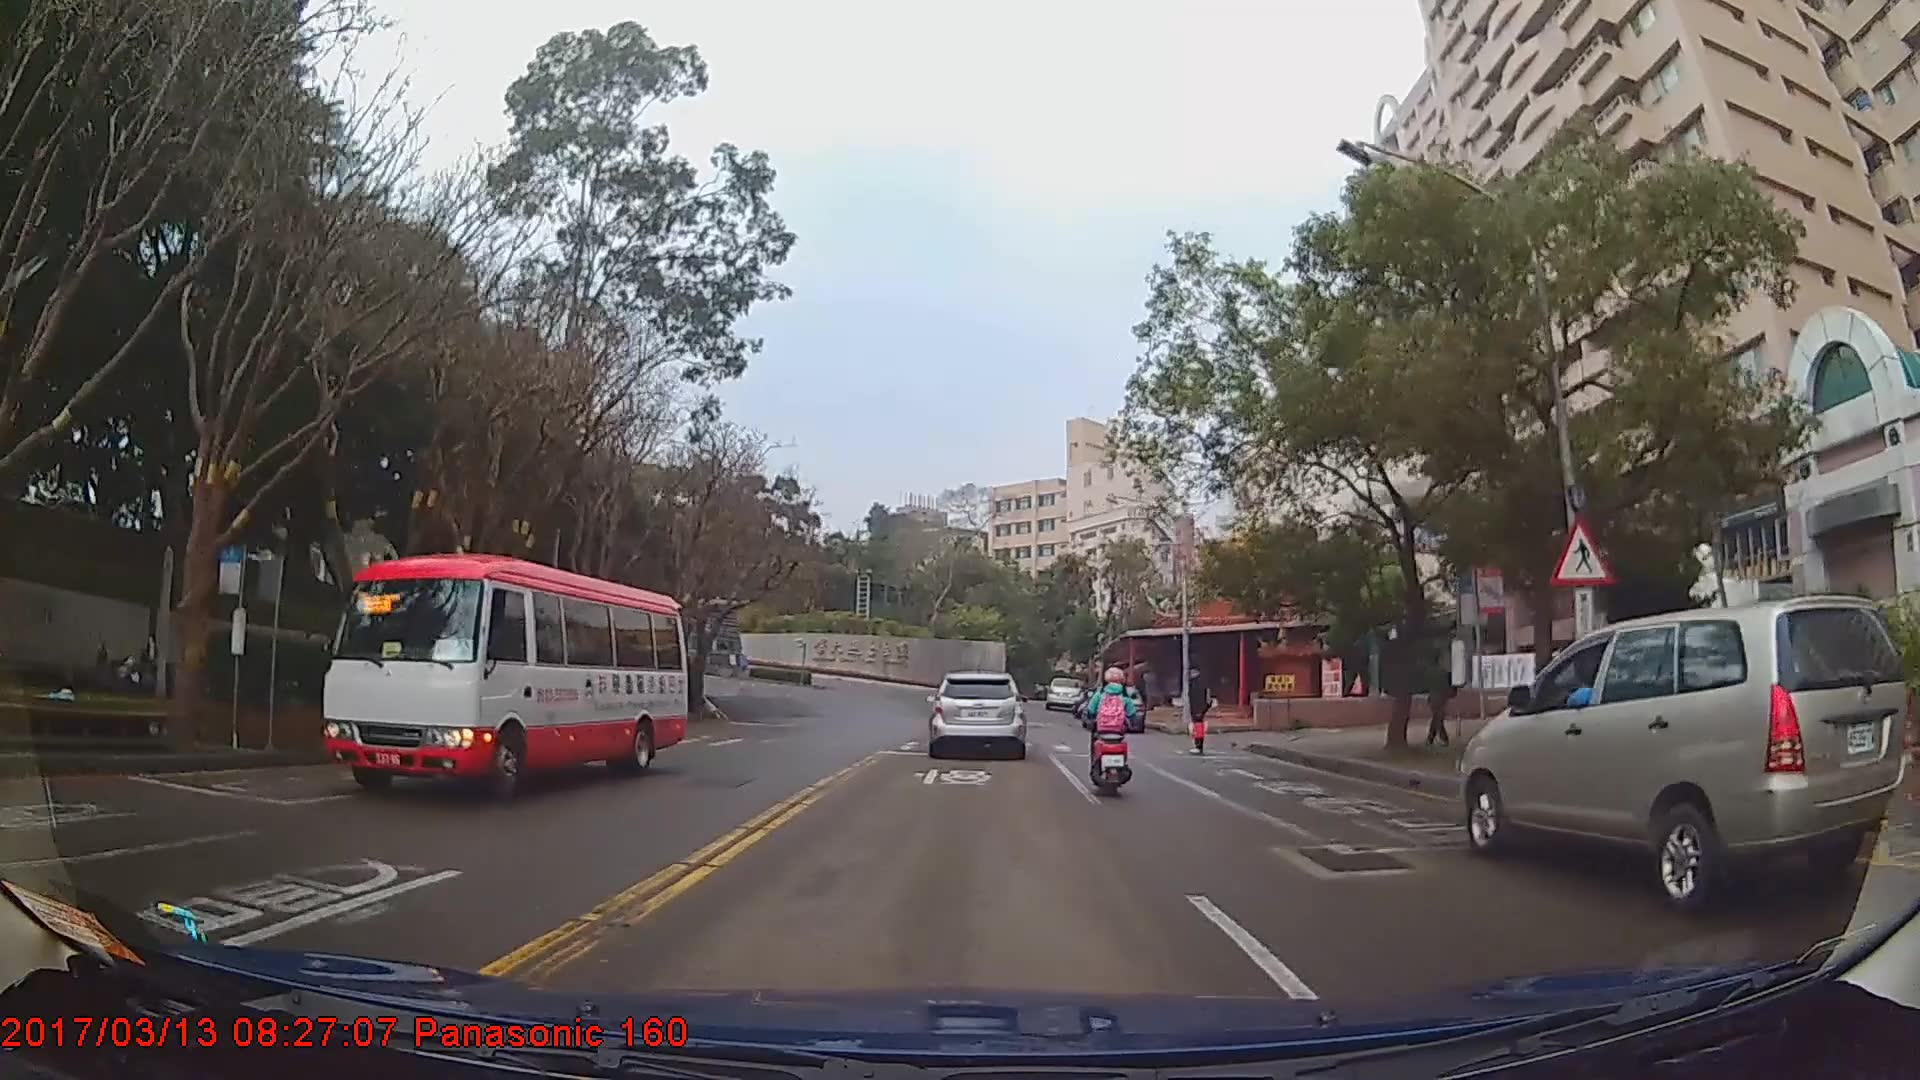pedestrian: (1420, 649, 1457, 744), (1184, 667, 1213, 758)
rider: (1080, 667, 1138, 798)
vehicle: (1459, 594, 1909, 917), (319, 552, 688, 803), (924, 671, 1027, 759), (1045, 675, 1084, 709)
